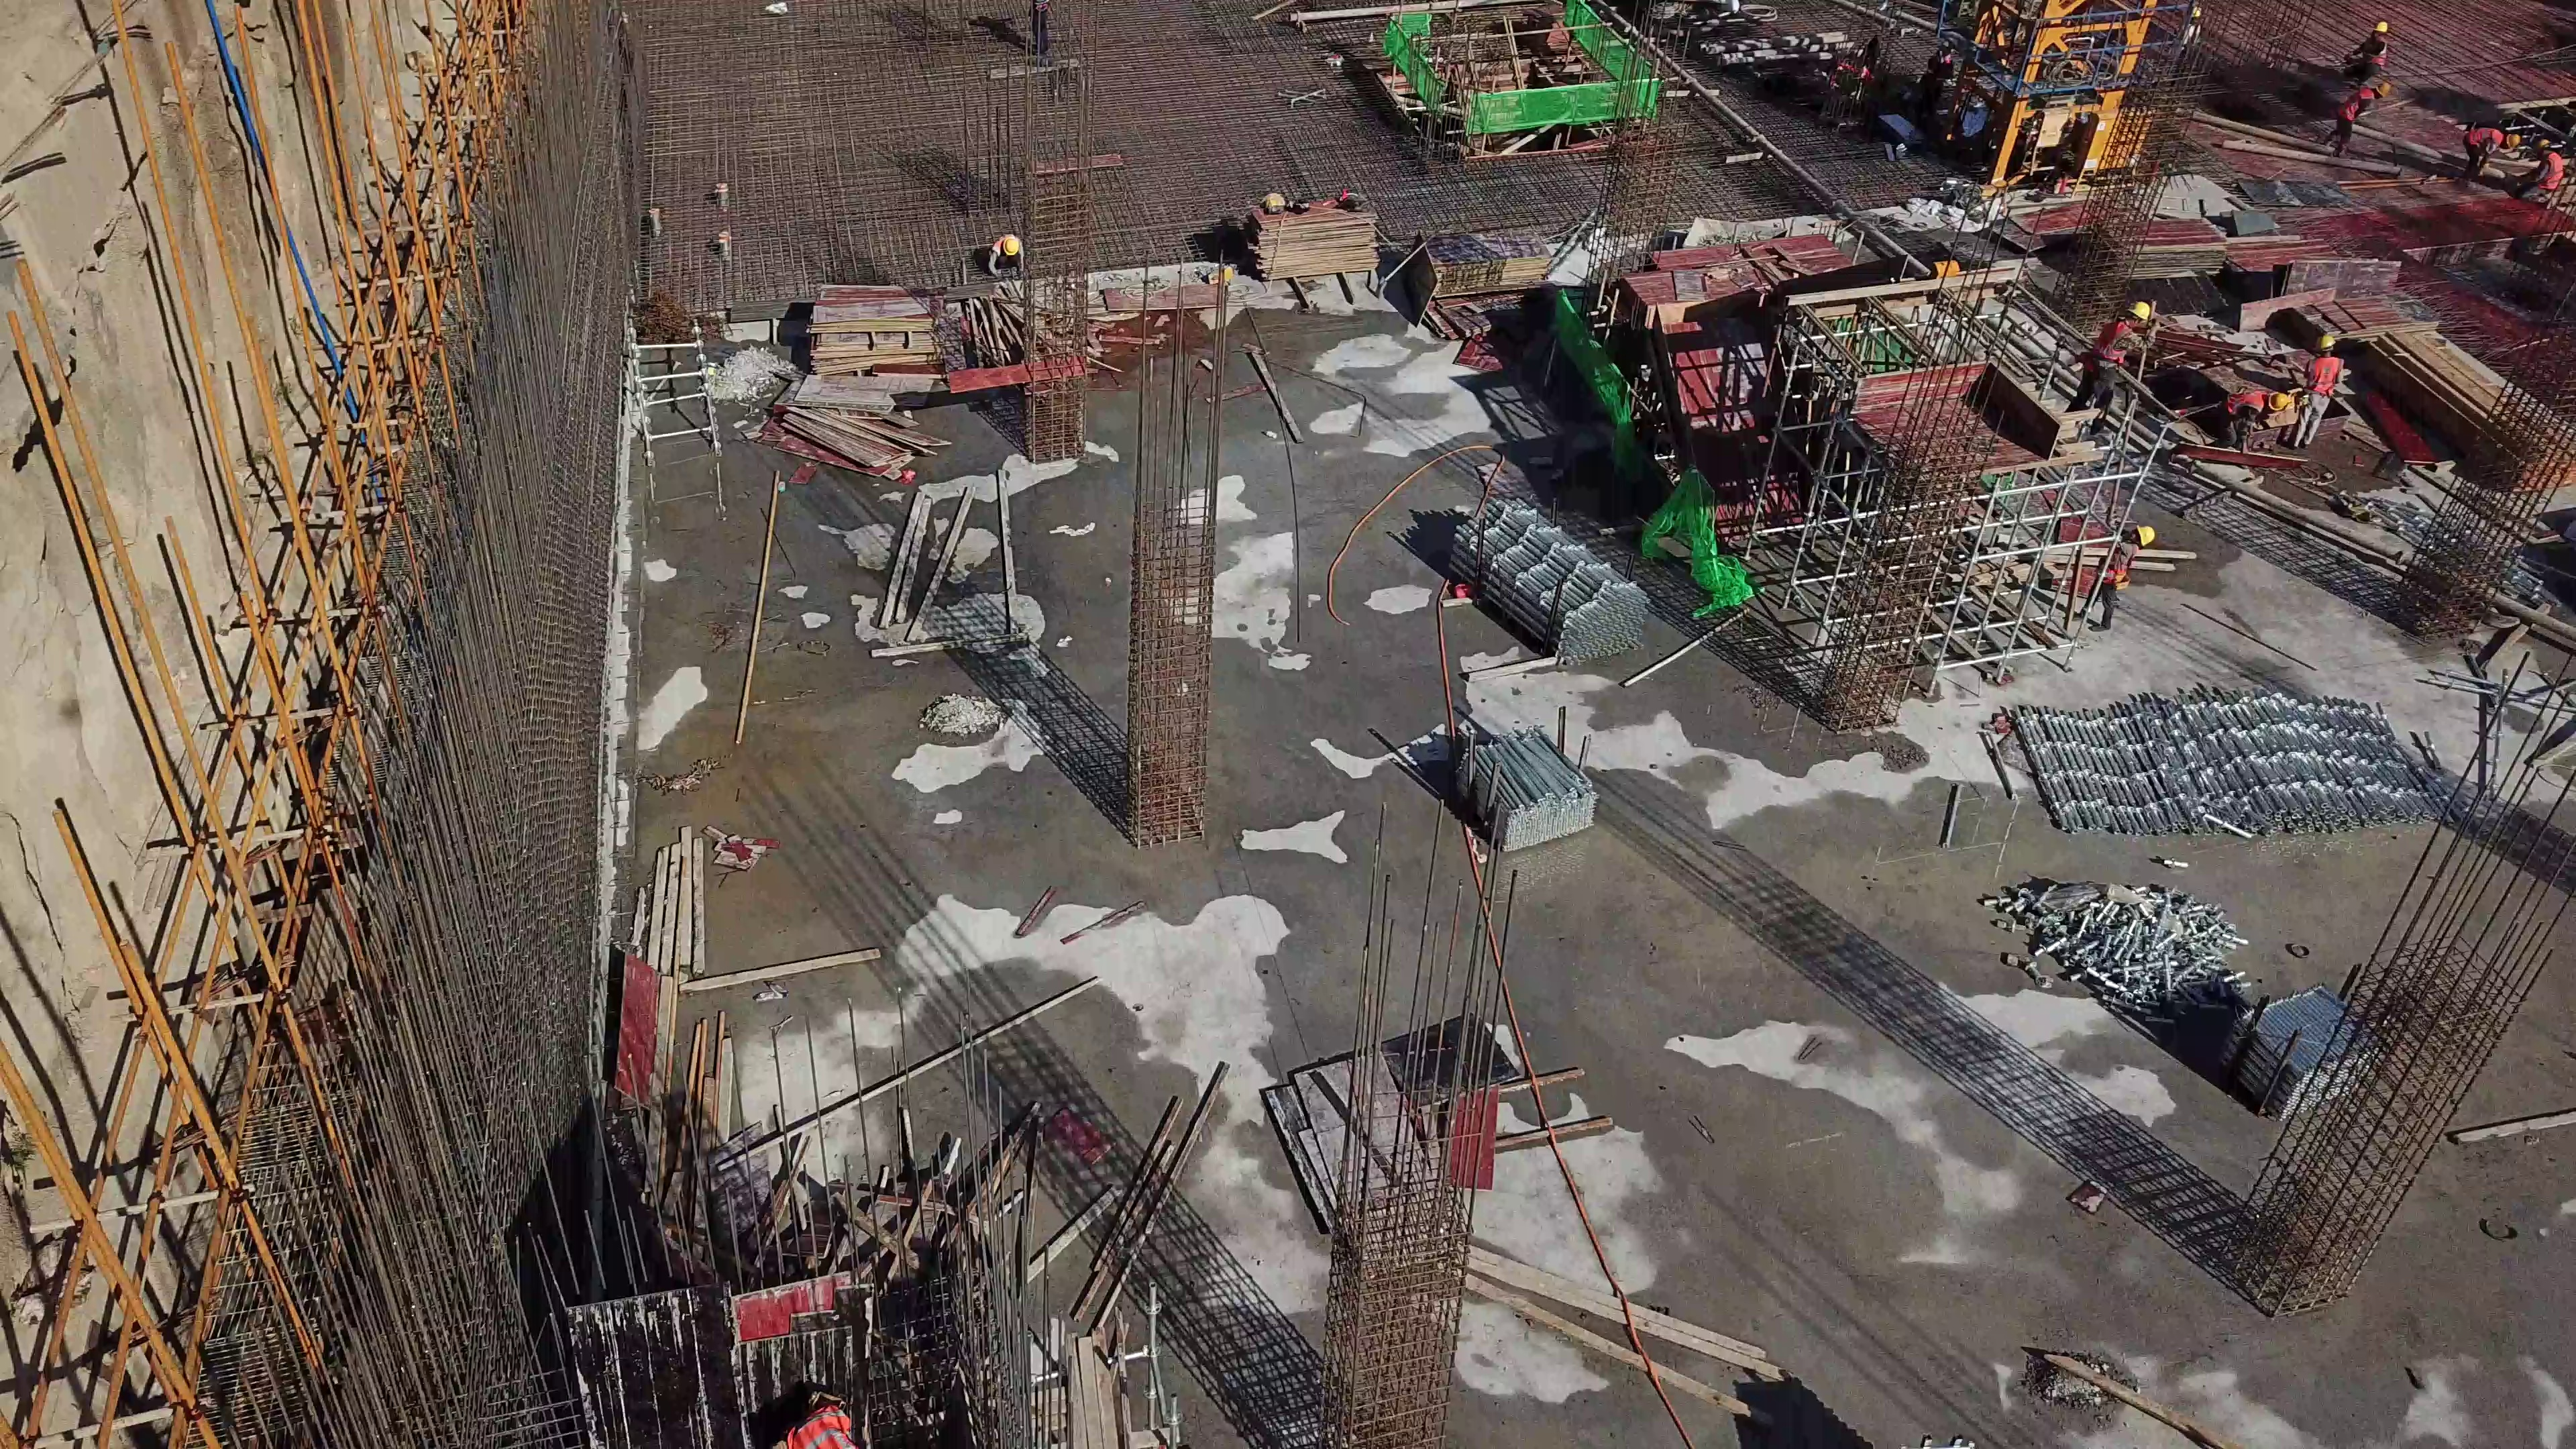helmet: (2126, 301, 2152, 323), (2137, 524, 2156, 549), (1002, 235, 1020, 260), (2267, 391, 2292, 408), (2532, 135, 2555, 153), (2314, 334, 2334, 352), (2375, 78, 2393, 97), (2506, 131, 2520, 152), (2373, 19, 2388, 34)
person: (2061, 303, 2155, 439), (2073, 524, 2156, 631), (2298, 335, 2343, 455), (2329, 76, 2391, 156), (2226, 389, 2293, 453), (2465, 124, 2522, 182), (2527, 136, 2569, 205), (2343, 14, 2390, 73), (986, 228, 1028, 272)
vest: (786, 1403, 859, 1449), (2081, 314, 2131, 378), (2298, 353, 2342, 400), (2224, 387, 2269, 421), (2457, 123, 2504, 153), (2338, 87, 2369, 129), (2540, 155, 2567, 193), (2362, 38, 2385, 73)
